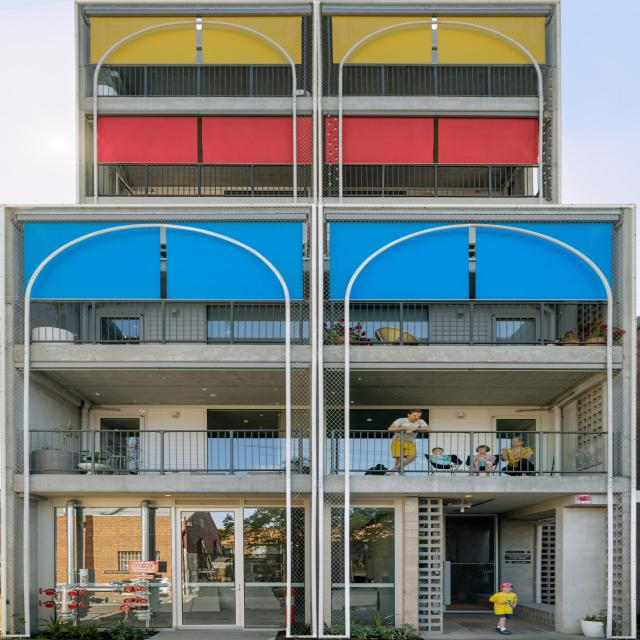door: (169, 505, 248, 632), (444, 515, 498, 614)
railing: (55, 507, 398, 632), (26, 431, 286, 475), (349, 431, 608, 475), (26, 302, 286, 343), (349, 302, 609, 342), (93, 63, 294, 96), (340, 64, 541, 97), (98, 165, 296, 195), (342, 164, 527, 195)
window: (207, 410, 282, 430), (350, 410, 421, 430)
